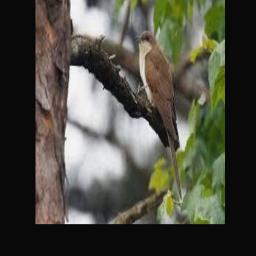Cuckoo: (135, 31, 182, 200)
